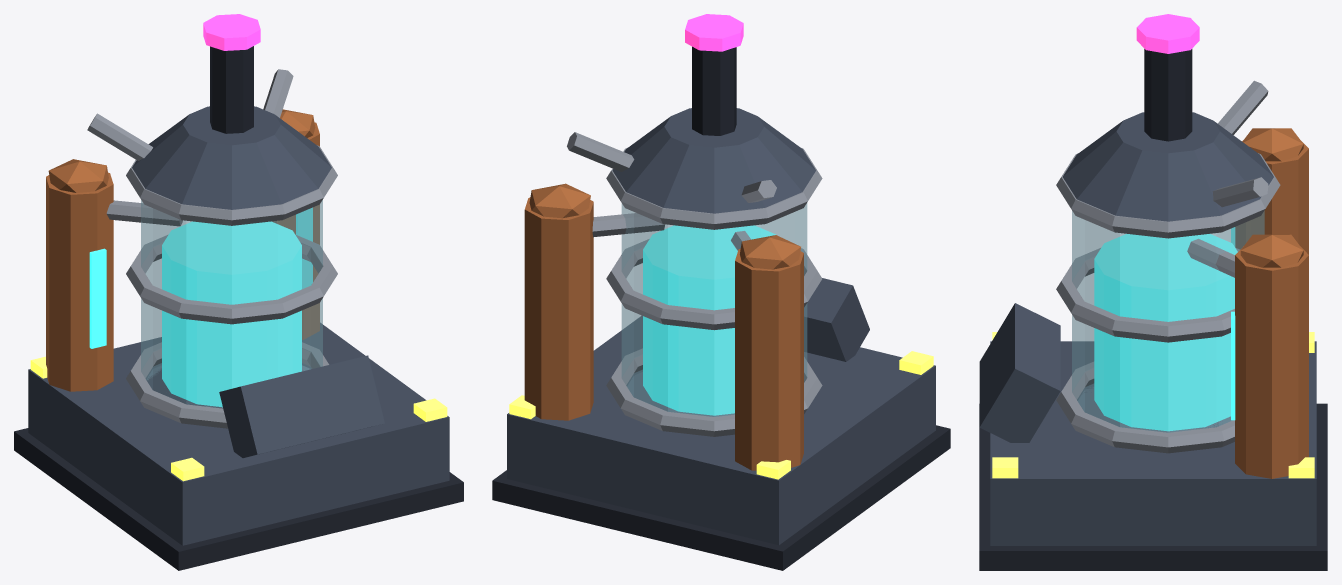
The model's file is synth_lab.glb.
The picture shows the model from 3 angles, left to right: view 1: azimuth 30°, elevation 25°; view 2: azimuth 150°, elevation 25°; view 3: azimuth 270°, elevation 25°; orthographic projection. The views are drawn at different scales.
Parts seen in each view (by area): view 1: synth_lab; view 2: synth_lab; view 3: synth_lab.
Part boxes in pixels (box(x1,y1,x2,y2)): synth_lab: box(14, 14, 463, 570); synth_lab: box(492, 14, 950, 570); synth_lab: box(979, 14, 1327, 570).
Bounding box in the file's own units: 0.94 × 1.4 × 0.94.
